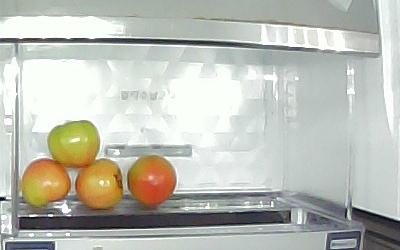tomato: (127, 155, 177, 206), (46, 120, 100, 166), (75, 158, 123, 209), (21, 158, 71, 206)
